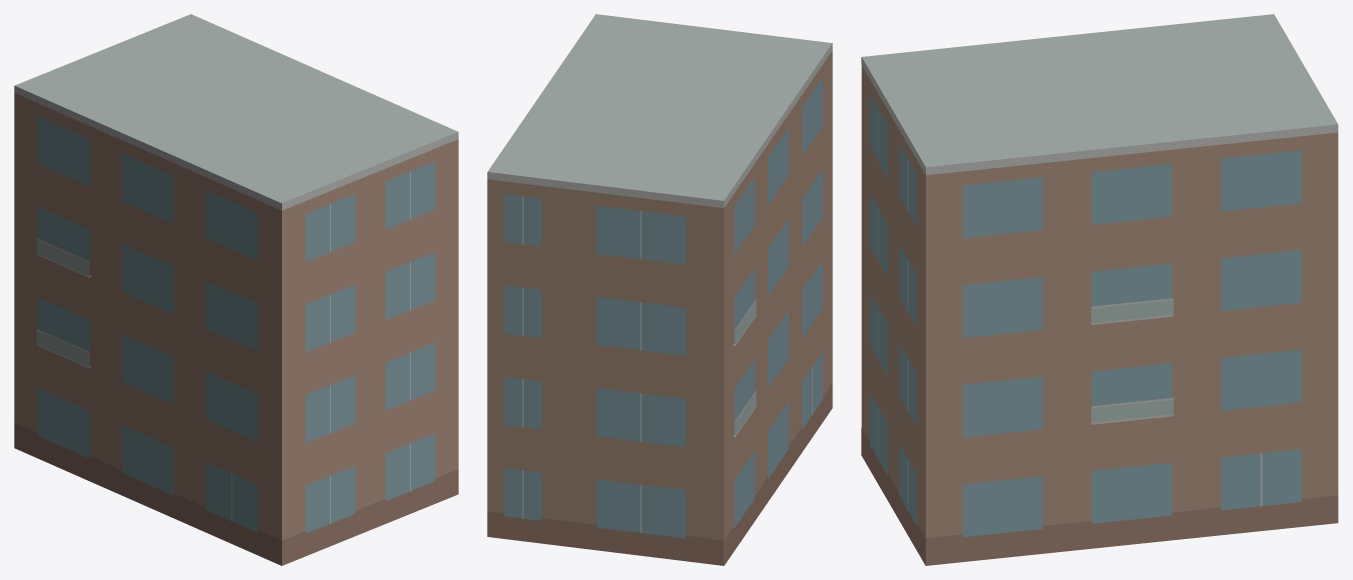
The model's file is residential-02b56c03-4d0c-4f38-9421-98f2d8e6262b.glb.
The picture shows the model from 3 angles, left to right: view 1: azimuth 30°, elevation 25°; view 2: azimuth 150°, elevation 25°; view 3: azimuth 270°, elevation 25°; orthographic projection. The views are drawn at different scales.
Parts seen in each view (by area): view 1: residential-02b56c03-4d0c-4f38-9421-98f2d8e6262b.tmp; view 2: residential-02b56c03-4d0c-4f38-9421-98f2d8e6262b.tmp; view 3: residential-02b56c03-4d0c-4f38-9421-98f2d8e6262b.tmp.
Boxes of the visible parts, x1,y1,x2,y2 form: residential-02b56c03-4d0c-4f38-9421-98f2d8e6262b.tmp: (14,14,458,565); residential-02b56c03-4d0c-4f38-9421-98f2d8e6262b.tmp: (487,14,832,565); residential-02b56c03-4d0c-4f38-9421-98f2d8e6262b.tmp: (861,14,1338,565).
Bounding box in the file's own units: 10.08 × 12.2 × 13.24.
